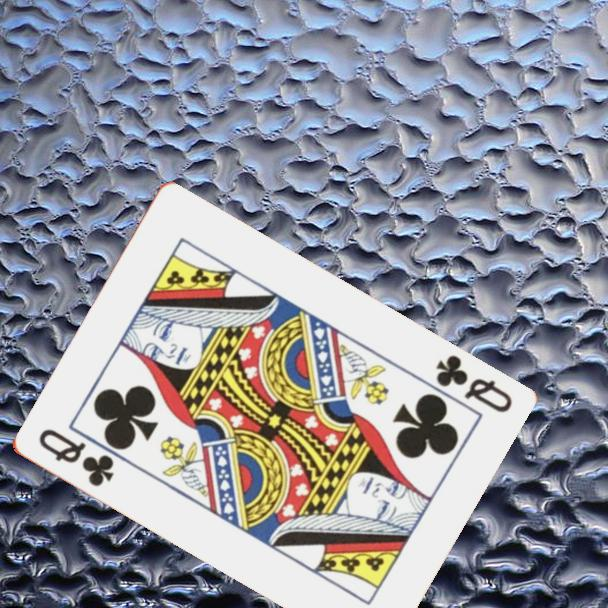c12: (431, 351, 515, 416), (34, 425, 117, 490)
